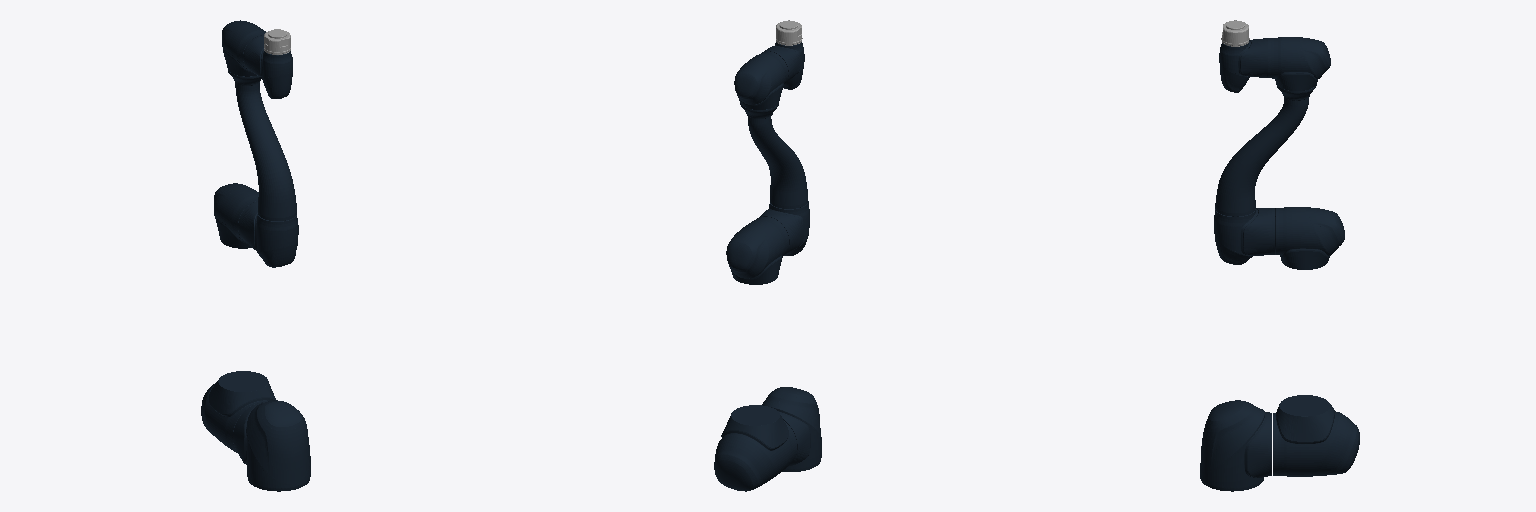
robot.urdf — h2515:
<?xml version="1.0" ?>
<!-- =================================================================================== -->
<!-- |    This document was autogenerated by xacro from /dsr_description2/xacro/h2515.urdf.xacro | -->
<!-- |    EDITING THIS FILE BY HAND IS NOT RECOMMENDED                                 | -->
<!-- =================================================================================== -->
<robot name="h2515">
  <material name="black">
    <color rgba="0.0 0.0 0.0 1.0"/>
  </material>
  <material name="white">
    <color rgba="1.0 1.0 1.0 1.0"/>
  </material>
  <material name="orange">
    <color rgba="1.0 0.4 0.0 1.0"/>
  </material>
  <material name="dr_gray">
    <color rgba="0.490 0.490 0.486 1.0"/>
  </material>
  <material name="dr_white">
    <color rgba="0.941 0.941 0.941 1.0"/>
  </material>
  <material name="dr_blue">
    <color rgba="0 0 0.15 1"/>
  </material>
  <link name="base_link">
    <inertial>
      <mass value="8.537"/>
      <origin xyz="-1.8e-05   -0.002377    0.095608"/>
      <inertia ixx="0.078238" ixy="3.026e-05" ixz="1.7626e-05" iyy="0.077909" iyz="-0.00099645" izz="0.068138"/>
    </inertial>
    <collision>
      <origin rpy="0 0 0" xyz="0 0 0"/>
      <geometry>
        <mesh filename="package://dsr_description2/meshes/h2515_collision/H2515_0_0.dae" scale="0.001 0.001 0.001"/>
      </geometry>
    </collision>
    <visual>
      <origin rpy="0 0 0" xyz="0 0 0"/>
      <geometry>
        <mesh filename="package://dsr_description2/meshes/h2515_blue/H2515_0_0.dae" scale="0.001 0.001 0.001"/>
      </geometry>
    </visual>
  </link>
  <!-- joint 1 -->
  <joint name="joint_1" type="revolute">
    <parent link="base_link"/>
    <child link="link_1"/>
    <origin rpy="0 0 0" xyz="0 0 0.3443"/>
    <axis xyz="0 0 1"/>
    <limit effort="372" lower="-6.2832" upper="6.2832" velocity="1.7453"/>
    <dynamics friction="0"/>
  </joint>
  <link name="link_1">
    <inertial>
      <mass value="20.253"/>
      <origin xyz="-5.3e-05     0.11854   -0.059979"/>
      <inertia ixx="0.52872" ixy="-5.7923e-05" ixz="-7.341e-06" iyy="0.27999" iyz="-0.149" izz="0.34741"/>
    </inertial>
    <collision>
      <origin rpy="0 0 0" xyz="0 0 0"/>
      <geometry>
        <mesh filename="package://dsr_description2/meshes/h2515_collision/H2515_1_0.dae" scale="0.001 0.001 0.001"/>
      </geometry>
    </collision>
    <visual>
      <origin rpy="0 0 0" xyz="0 0 0"/>
      <geometry>
        <mesh filename="package://dsr_description2/meshes/h2515_blue/H2515_1_0.dae" scale="0.001 0.001 0.001"/>
      </geometry>
    </visual>
  </link>
  <!-- joint2 -->
  <joint name="joint_2" type="revolute">
    <parent link="link_1"/>
    <child link="link_2"/>
    <origin rpy="0 -1.571 -1.571" xyz="0 0.0099 0"/>
    <axis xyz="0 0 1"/>
    <limit effort="372" lower="-2.1817" upper="2.1817" velocity="1.3963"/>
    <dynamics friction="0"/>
  </joint>
  <link name="link_2">
    <inertial>
      <mass value="28.111"/>
      <origin xyz="0.35729    -2.4e-05     0.22527"/>
      <inertia ixx="0.15204" ixy="-0.00010891" ixz="0.107" iyy="2.5113" iyz="-5.2156e-05" izz="2.4697"/>
    </inertial>
    <collision>
      <origin rpy="0 0 0" xyz="0 0 0"/>
      <geometry>
        <mesh filename="package://dsr_description2/meshes/h2515_collision/H2515_2_0.dae" scale="0.001 0.001 0.001"/>
      </geometry>
    </collision>
    <visual>
      <origin rpy="0 0 0" xyz="0 0 0"/>
      <geometry>
        <mesh filename="package://dsr_description2/meshes/h2515_blue/H2515_2_0.dae" scale="0.001 0.001 0.001"/>
      </geometry>
    </visual>
    <collision>
      <origin rpy="0 0 0" xyz="0 0 0"/>
      <geometry>
        <mesh filename="package://dsr_description2/meshes/h2515_collision/H2515_2_1.dae" scale="0.001 0.001 0.001"/>
      </geometry>
    </collision>
    <visual>
      <origin rpy="0 0 0" xyz="0 0 0"/>
      <geometry>
        <mesh filename="package://dsr_description2/meshes/h2515_blue/H2515_2_1.dae" scale="0.001 0.001 0.001"/>
      </geometry>
    </visual>
    <collision>
      <origin rpy="0 0 0" xyz="0 0 0"/>
      <geometry>
        <mesh filename="package://dsr_description2/meshes/h2515_collision/H2515_2_2.dae" scale="0.001 0.001 0.001"/>
      </geometry>
    </collision>
    <visual>
      <origin rpy="0 0 0" xyz="0 0 0"/>
      <geometry>
        <mesh filename="package://dsr_description2/meshes/h2515_blue/H2515_2_2.dae" scale="0.001 0.001 0.001"/>
      </geometry>
    </visual>
  </link>
  <!-- joint3 -->
  <joint name="joint_3" type="revolute">
    <parent link="link_2"/>
    <child link="link_3"/>
    <origin rpy="0 0 1.571" xyz="0.7595 0 0"/>
    <axis xyz="0 0 1"/>
    <limit effort="372" lower="-2.7925" upper="2.7925" velocity="1.7453"/>
    <dynamics friction="0"/>
  </joint>
  <link name="link_3">
    <inertial>
      <mass value="6.421"/>
      <origin xyz="-6.5e-05  -0.0074124    0.049527"/>
      <inertia ixx="0.042338" ixy="2.9627e-05" ixz="-1.1919e-05" iyy="0.039418" iyz="-0.0029936" izz="0.028103"/>
    </inertial>
    <collision>
      <origin rpy="0 0 0" xyz="0 0 0"/>
      <geometry>
        <mesh filename="package://dsr_description2/meshes/h2515_collision/H2515_3_0.dae" scale="0.001 0.001 0.001"/>
      </geometry>
    </collision>
    <visual>
      <origin rpy="0 0 0" xyz="0 0 0"/>
      <geometry>
        <mesh filename="package://dsr_description2/meshes/h2515_blue/H2515_3_0.dae" scale="0.001 0.001 0.001"/>
      </geometry>
    </visual>
  </link>
  <!-- joint4 -->
  <joint name="joint_4" type="revolute">
    <parent link="link_3"/>
    <child link="link_4"/>
    <origin rpy="1.571 0 0" xyz="0 -0.6195 0"/>
    <axis xyz="0 0 1"/>
    <limit effort="163" lower="-6.2832" upper="6.2832" velocity="3.1416"/>
    <dynamics friction="0"/>
  </joint>
  <link name="link_4">
    <inertial>
      <mass value="7.295"/>
      <origin xyz="7.9e-05     0.13068    -0.17947"/>
      <inertia ixx="0.41598" ixy="-6.9414e-05" ixz="-0.00010777" iyy="0.36426" iyz="-0.12499" izz="0.075756"/>
    </inertial>
    <collision>
      <origin rpy="0 0 0" xyz="0 0 0"/>
      <geometry>
        <mesh filename="package://dsr_description2/meshes/h2515_collision/H2515_4_0.dae" scale="0.001 0.001 0.001"/>
      </geometry>
    </collision>
    <visual>
      <origin rpy="0 0 0" xyz="0 0 0"/>
      <geometry>
        <mesh filename="package://dsr_description2/meshes/h2515_blue/H2515_4_0.dae" scale="0.001 0.001 0.001"/>
      </geometry>
    </visual>
    <collision>
      <origin rpy="0 0 0" xyz="0 0 0"/>
      <geometry>
        <mesh filename="package://dsr_description2/meshes/h2515_collision/H2515_4_1.dae" scale="0.001 0.001 0.001"/>
      </geometry>
    </collision>
    <visual>
      <origin rpy="0 0 0" xyz="0 0 0"/>
      <geometry>
        <mesh filename="package://dsr_description2/meshes/h2515_blue/H2515_4_1.dae" scale="0.001 0.001 0.001"/>
      </geometry>
    </visual>
  </link>
  <!-- joint5 -->
  <joint name="joint_5" type="revolute">
    <parent link="link_4"/>
    <child link="link_5"/>
    <origin rpy="-1.571 0 0" xyz="0 0 0"/>
    <axis xyz="0 0 1"/>
    <limit effort="96" lower="-6.2832" upper="6.2832" velocity="3.1416"/>
    <dynamics friction="0"/>
  </joint>
  <link name="link_5">
    <inertial>
      <mass value="4.099"/>
      <origin xyz="-6.1e-05   -0.000589    0.048788"/>
      <inertia ixx="0.024784" ixy="2.2652e-05" ixz="-5.8056e-06" iyy="0.024229" iyz="5.8109e-05" izz="0.012218"/>
    </inertial>
    <collision>
      <origin rpy="0 0 0" xyz="0 0 0"/>
      <geometry>
        <mesh filename="package://dsr_description2/meshes/h2515_collision/H2515_5_0.dae" scale="0.001 0.001 0.001"/>
      </geometry>
    </collision>
    <visual>
      <origin rpy="0 0 0" xyz="0 0 0"/>
      <geometry>
        <mesh filename="package://dsr_description2/meshes/h2515_blue/H2515_5_0.dae" scale="0.001 0.001 0.001"/>
      </geometry>
    </visual>
  </link>
  <!-- joint6 -->
  <joint name="joint_6" type="revolute">
    <parent link="link_5"/>
    <child link="link_6"/>
    <origin rpy="1.571 0 0" xyz="0 -0.121 0"/>
    <axis xyz="0 0 1"/>
    <limit effort="50" lower="-6.2832" upper="6.2832" velocity="3.927"/>
    <dynamics friction="0"/>
  </joint>
  <link name="link_6">
    <inertial>
      <mass value="0.897"/>
      <origin xyz="-3.3e-05     1.2e-05   -0.049444"/>
      <inertia ixx="0.0081209" ixy="7.9444e-06" ixz="7.3951e-06" iyy="0.0071981" iyz="4.2669e-06" izz="0.0079983"/>
    </inertial>
    <collision>
      <origin rpy="0 0 0" xyz="0 0 0"/>
      <geometry>
        <mesh filename="package://dsr_description2/meshes/h2515_collision/H2515_6_0.dae" scale="0.001 0.001 0.001"/>
      </geometry>
    </collision>
    <visual>
      <origin rpy="0 0 0" xyz="0 0 0"/>
      <geometry>
        <mesh filename="package://dsr_description2/meshes/h2515_blue/H2515_6_0.dae" scale="0.001 0.001 0.001"/>
      </geometry>
    </visual>
  </link>
</robot>

--- Facts derived from the render (not from the file) ---
Views: 3 orthographic renders of the robot side by side, from view 1: azimuth 30°, elevation 25°; view 2: azimuth 150°, elevation 25°; view 3: azimuth 270°, elevation 25°.
Robot: h2515 — 7 links, 6 joints (6 revolute); root link base_link; default pose: every joint at zero.
Links seen in each view (by area): view 1: link_4, link_1, link_2, link_3, link_5, link_6; view 2: link_2, link_4, link_1, link_3, link_5, link_6; view 3: link_2, link_4, link_1, link_3, link_5, link_6.
Link boxes in pixels (x1,y1,x2,y2): link_4: (222,20,296,220); link_1: (233,400,310,491); link_2: (201,183,275,452); link_3: (238,201,298,267); link_5: (243,35,292,98); link_6: (264,29,290,54); link_2: (714,217,796,491); link_4: (734,51,807,208); link_1: (762,387,821,471); link_3: (757,201,809,255); link_5: (764,42,804,89); link_6: (776,20,802,45); link_2: (1273,207,1359,476); link_4: (1215,37,1330,216); link_1: (1200,400,1271,491); link_3: (1214,208,1274,264); link_5: (1219,38,1270,92); link_6: (1221,20,1249,46).
Bounding box of the posed robot: 0.213 × 0.5185 × 1.62 m (x, y, z).
Meshes: 10 distinct files referenced, 8 mesh visuals loaded (8 Collada DAE); not drawn: 2 (reference not matched to a file when rendering).
